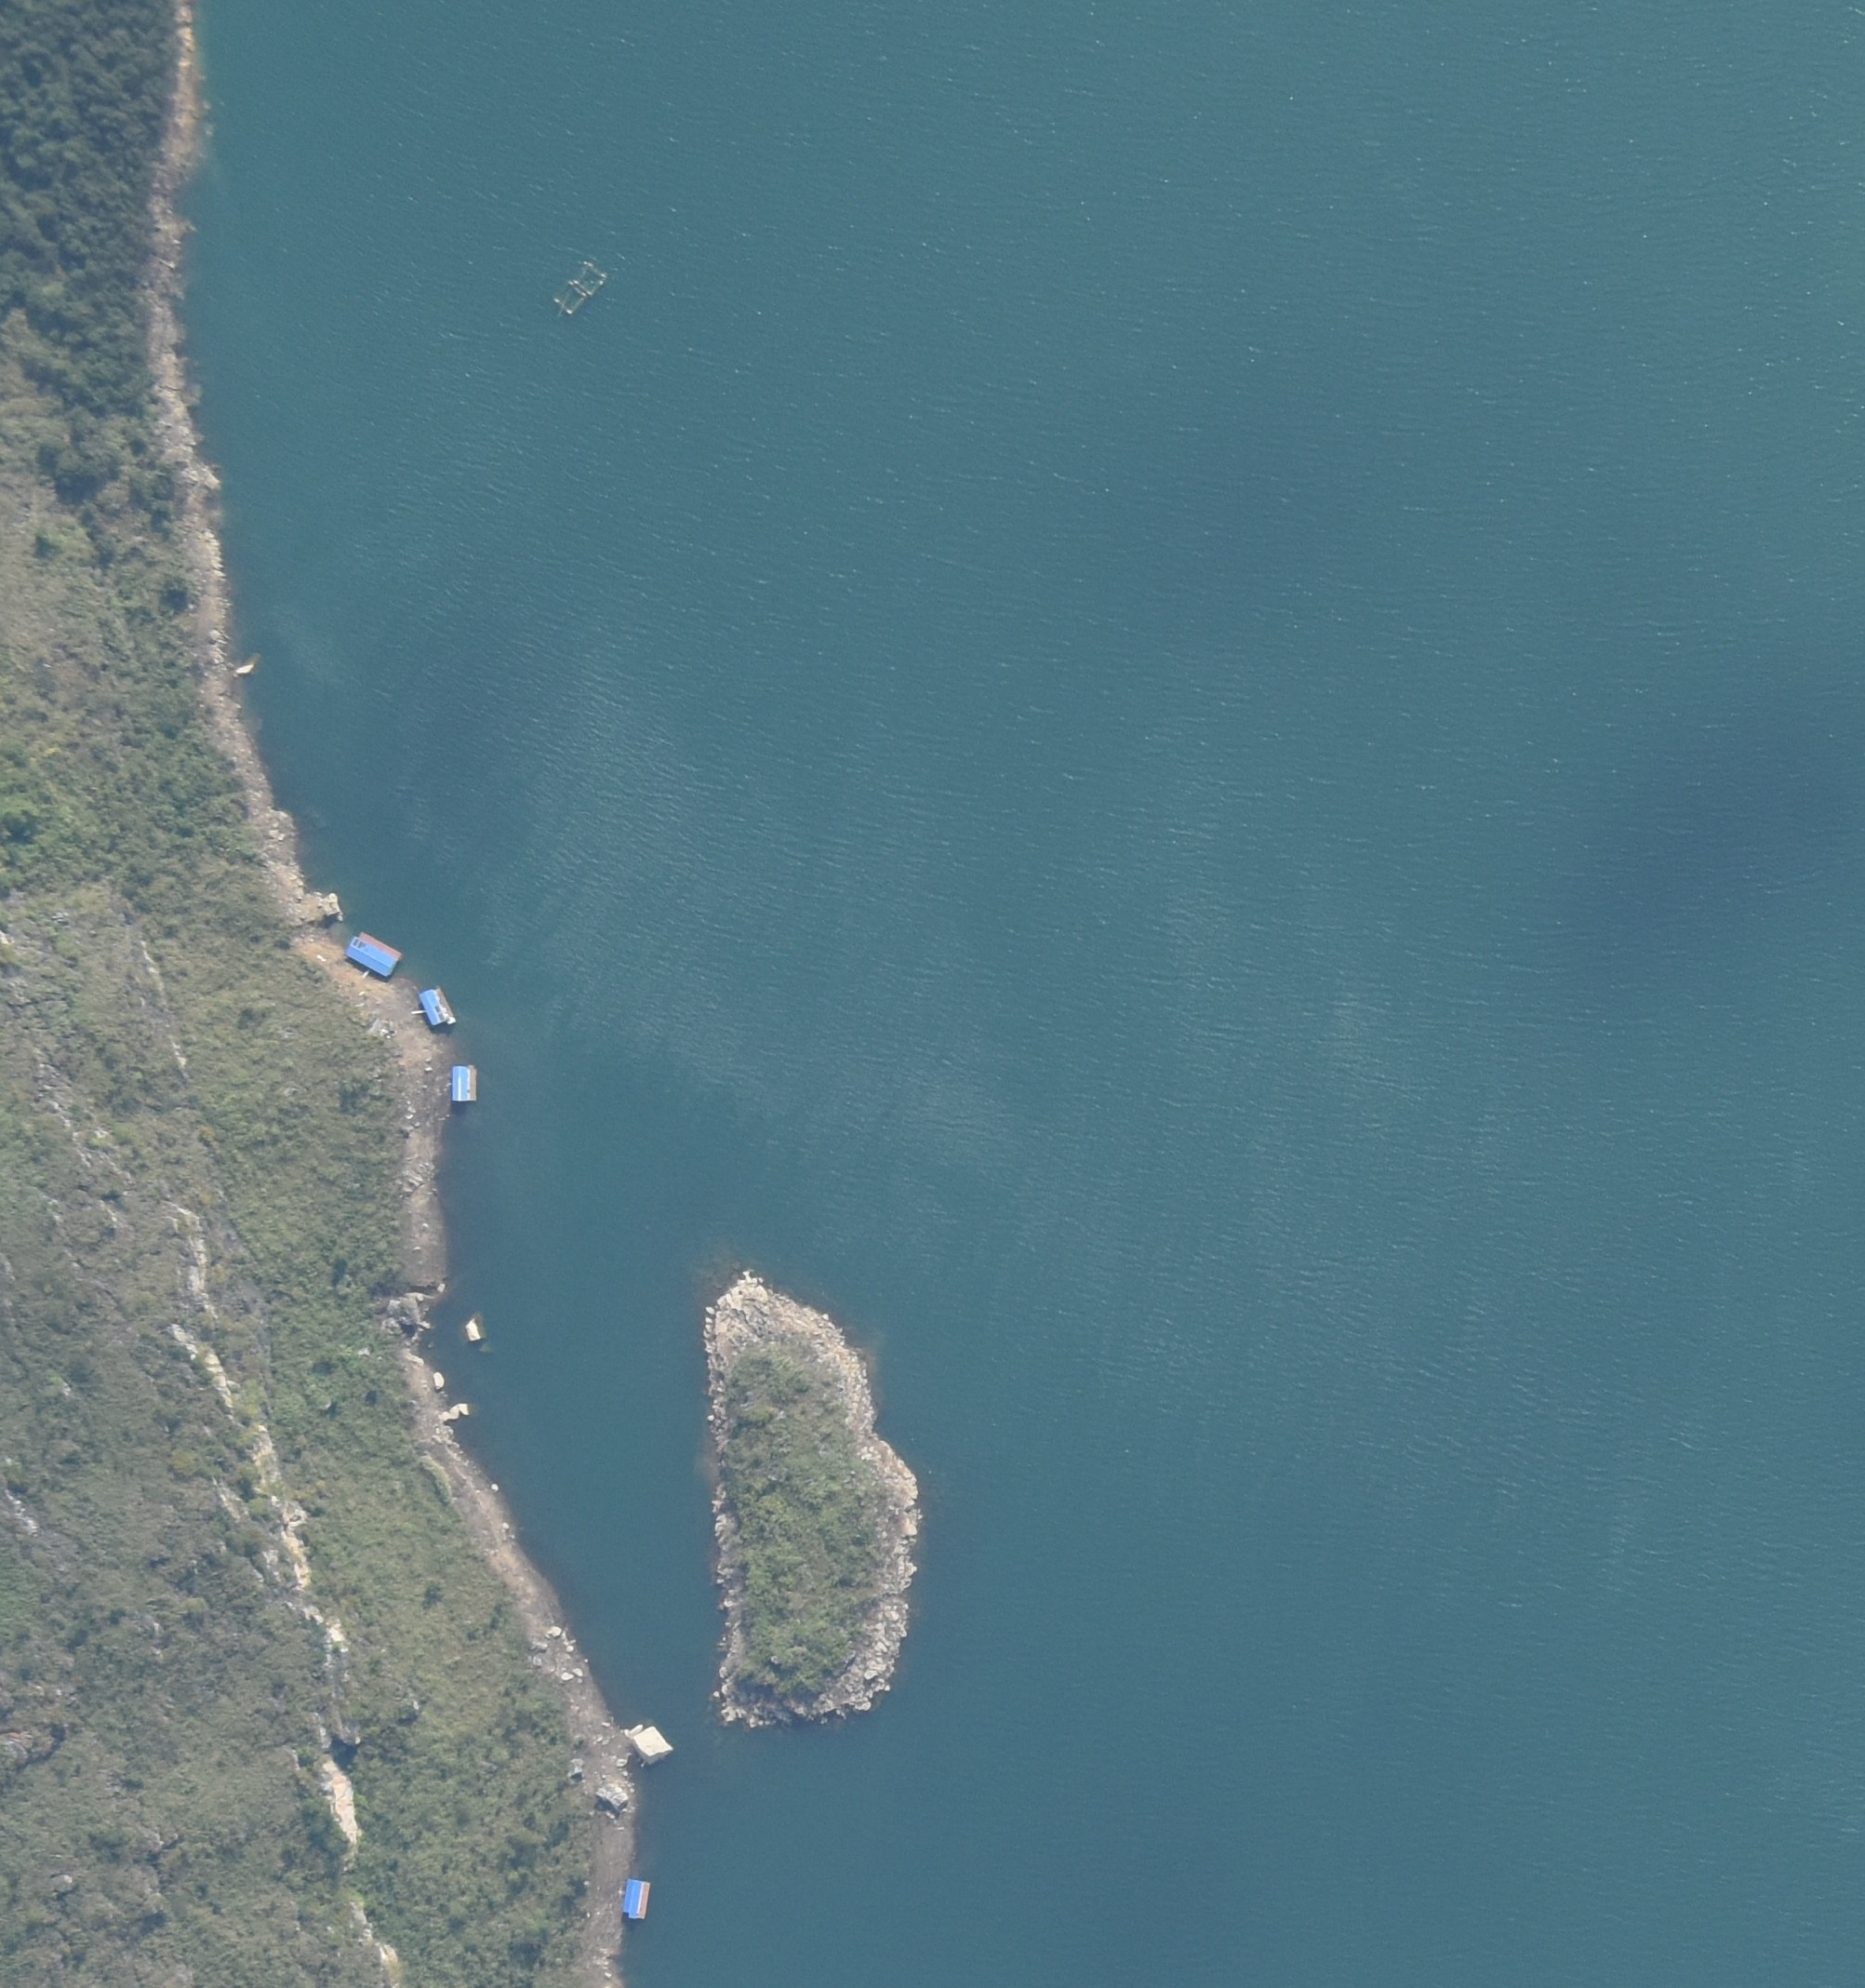cultivation-mesh-cage: (553, 260, 606, 316)
prefabricated-house: (345, 930, 403, 979), (418, 984, 459, 1030), (620, 1877, 649, 1920), (451, 1064, 475, 1101)
